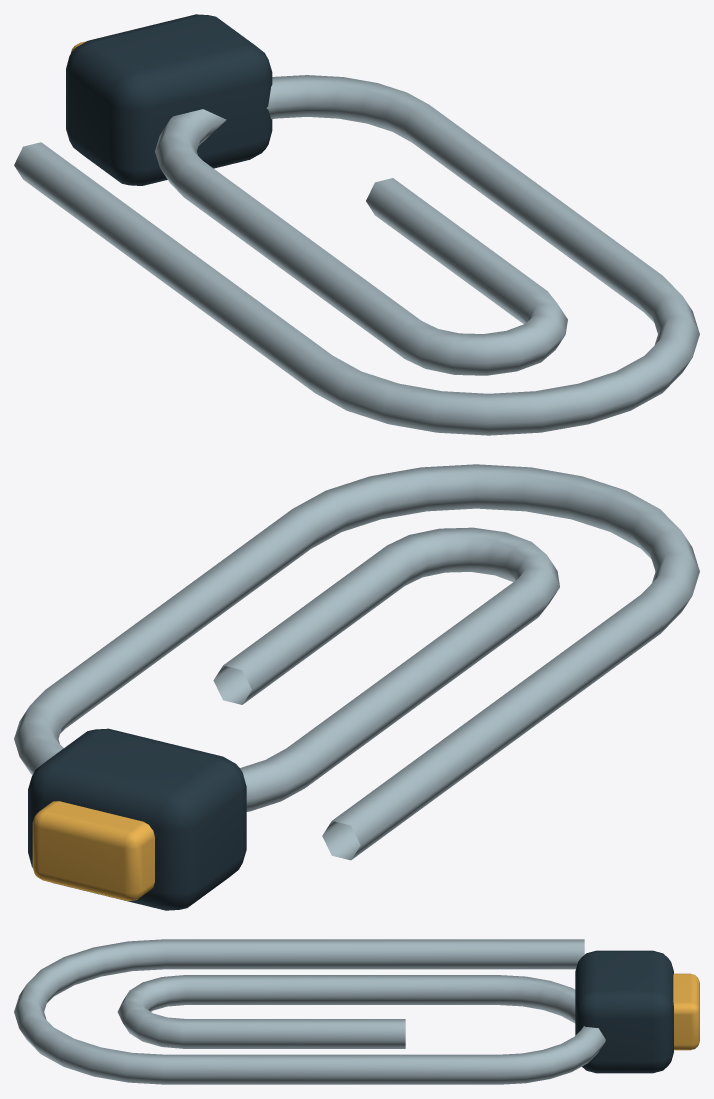
File: part_paper_clip.glb
The picture shows the model from 3 angles, top to bottom: view 1: azimuth 30°, elevation 25°; view 2: azimuth 150°, elevation 25°; view 3: azimuth 270°, elevation 25°; orthographic projection. The views are drawn at different scales.
Parts seen in each view (by area): view 1: Continuous bent steel paperclip, Universal rubber mounting pad.012; view 2: Continuous bent steel paperclip, Universal rubber mounting pad.012, Snap-in brass tongue.012; view 3: Continuous bent steel paperclip, Universal rubber mounting pad.012, Snap-in brass tongue.012.
Part boxes in pixels (x1,y1,x2,y2): Continuous bent steel paperclip: (14,75,699,435); Universal rubber mounting pad.012: (66,14,272,185); Continuous bent steel paperclip: (14,464,699,860); Universal rubber mounting pad.012: (28,728,246,910); Snap-in brass tongue.012: (32,801,154,900); Continuous bent steel paperclip: (14,939,605,1084); Universal rubber mounting pad.012: (575,950,673,1073); Snap-in brass tongue.012: (673,973,699,1050).
Bounding box in the file's own units: 0.0129 × 0.0038 × 0.0291.
